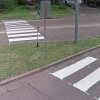crosswalk: (51, 56, 100, 92), (3, 20, 45, 41)
